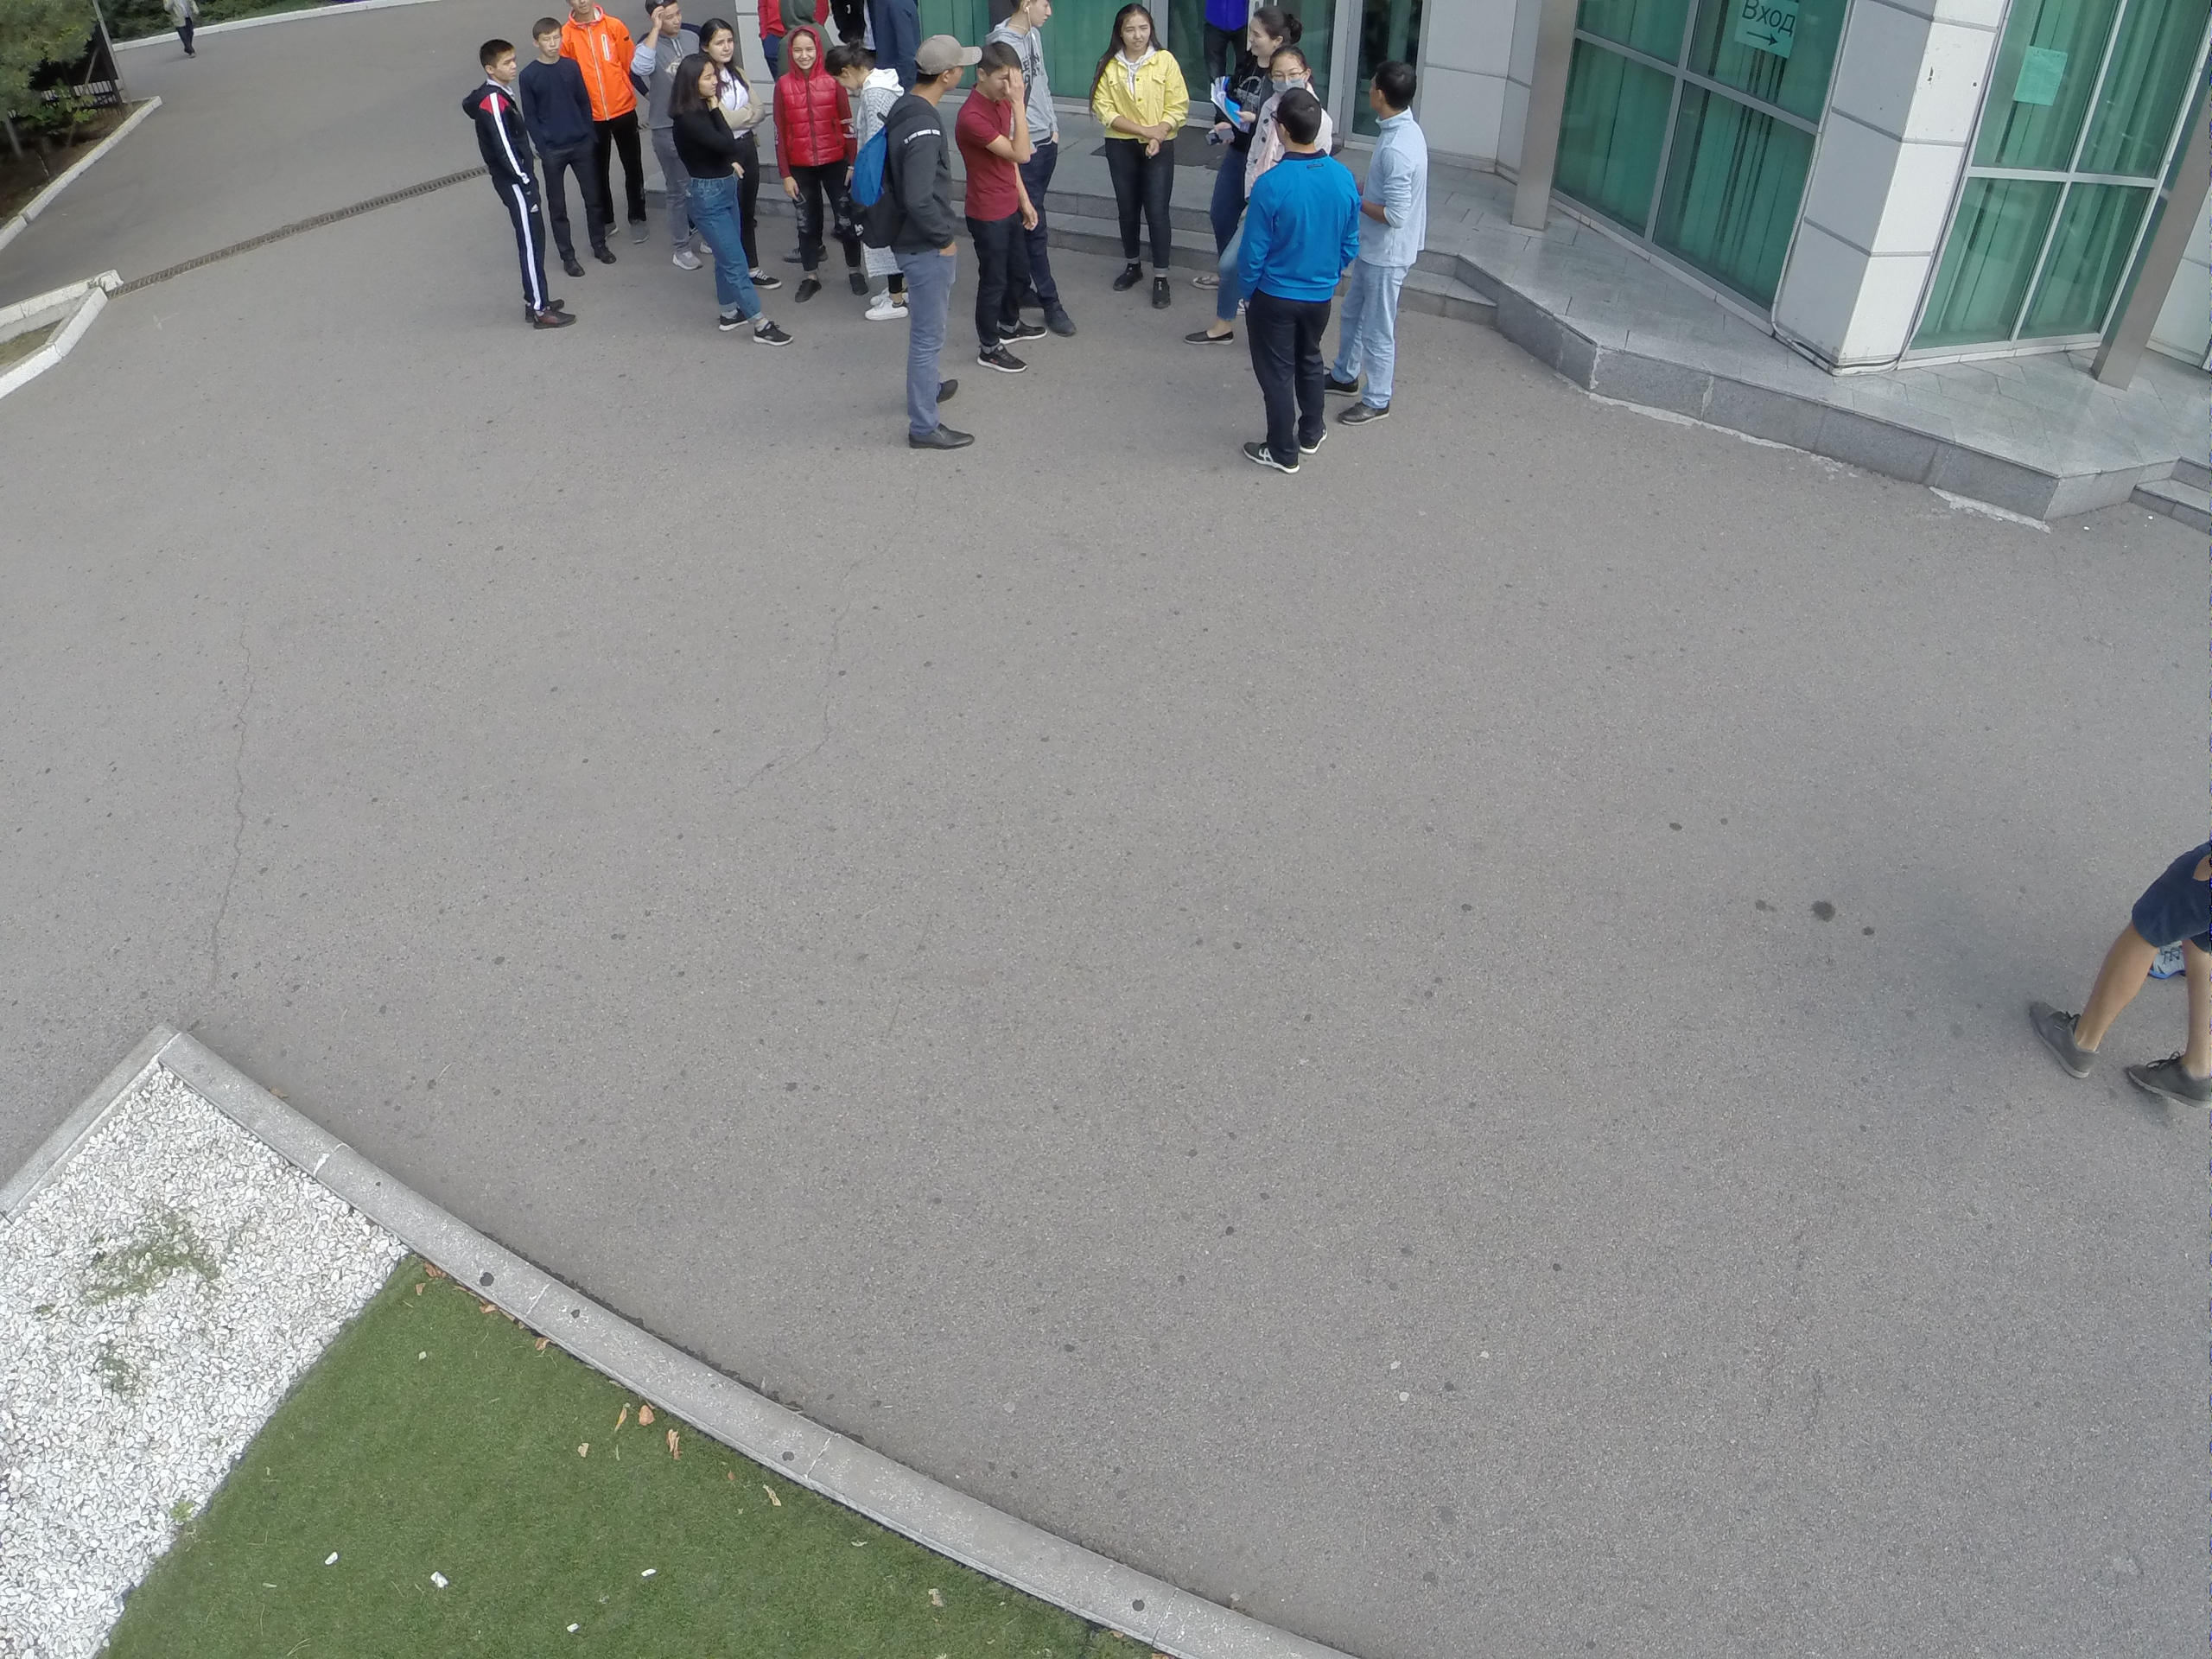person: (1228, 97, 1347, 493), (867, 44, 979, 455), (453, 41, 567, 331), (1085, 3, 1192, 306), (1350, 56, 1428, 433), (966, 59, 1052, 379), (682, 69, 775, 334), (775, 26, 855, 290), (641, 1, 722, 255), (836, 54, 910, 321), (569, 1, 656, 209), (526, 26, 598, 255), (1020, 1, 1077, 272), (717, 26, 755, 150)
